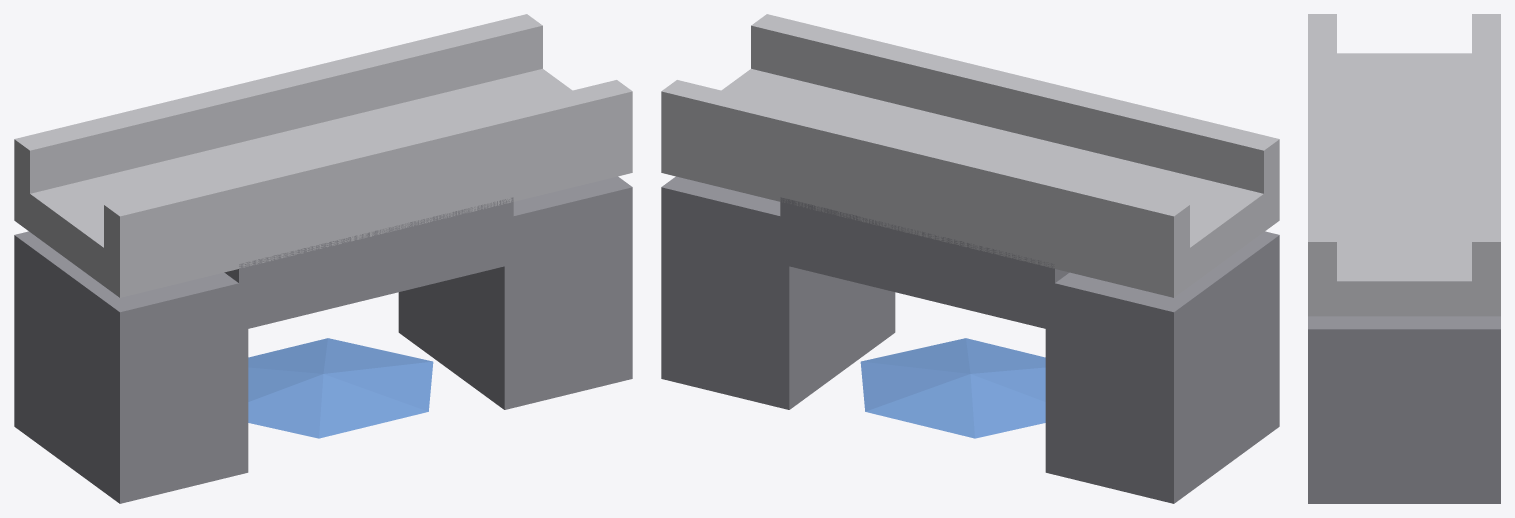
File: deco_stone_bridge.obj
3 renders of one model, left to right at view 1: azimuth 30°, elevation 25°; view 2: azimuth 150°, elevation 25°; view 3: azimuth 270°, elevation 25°, orthographic. The views are drawn at different scales.
Parts seen in each view (by area): view 1: deco_stone_bridge; view 2: deco_stone_bridge; view 3: deco_stone_bridge.
Part boxes in pixels (bbox=[...]): deco_stone_bridge: bbox=[14, 14, 632, 503]; deco_stone_bridge: bbox=[661, 14, 1279, 503]; deco_stone_bridge: bbox=[1308, 14, 1500, 503].
Bounding box in the file's own units: 0.056 × 0.03 × 0.02.
1 material, 1 textured.
